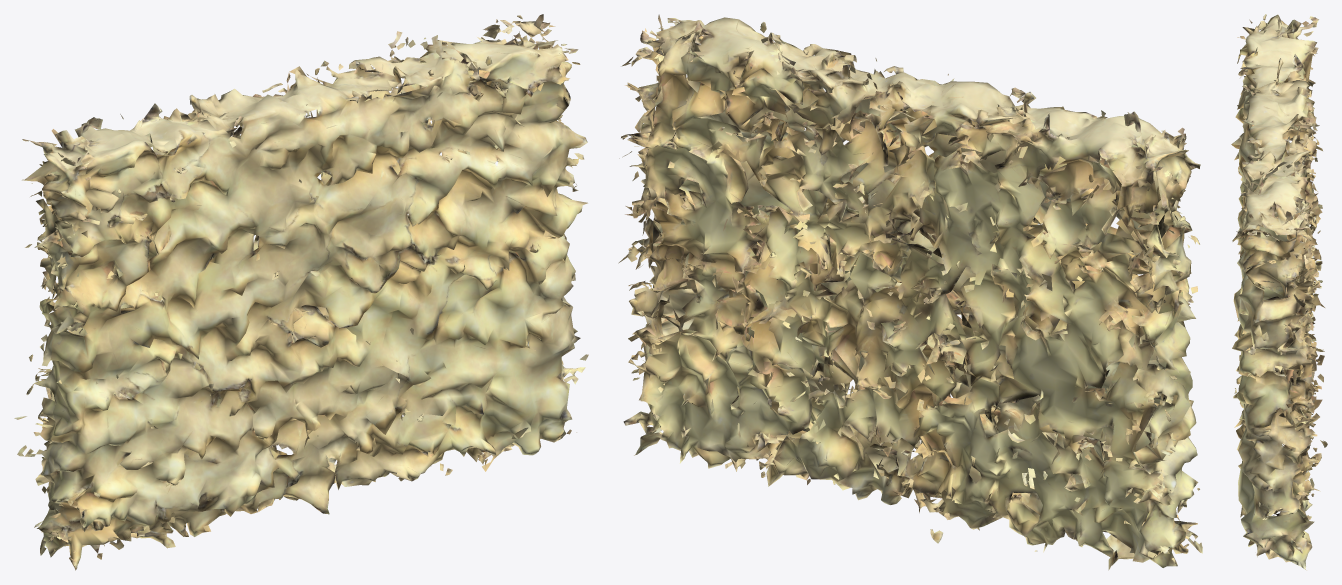
The model's file is arbusto.fbx.
3 renders of one model, left to right at view 1: azimuth 30°, elevation 25°; view 2: azimuth 150°, elevation 25°; view 3: azimuth 270°, elevation 25°, orthographic. The views are drawn at different scales.
Parts seen in each view (by area): view 1: Mesh_0; view 2: Mesh_0; view 3: Mesh_0.
Boxes of the visible parts, box(x1,y1,x2,y2) form: Mesh_0: box(14, 14, 588, 570); Mesh_0: box(618, 14, 1202, 570); Mesh_0: box(1231, 14, 1327, 570).
Bounding box in the file's own units: 199 × 153 × 36.25.
Materials: 1 (1 with a texture image).
